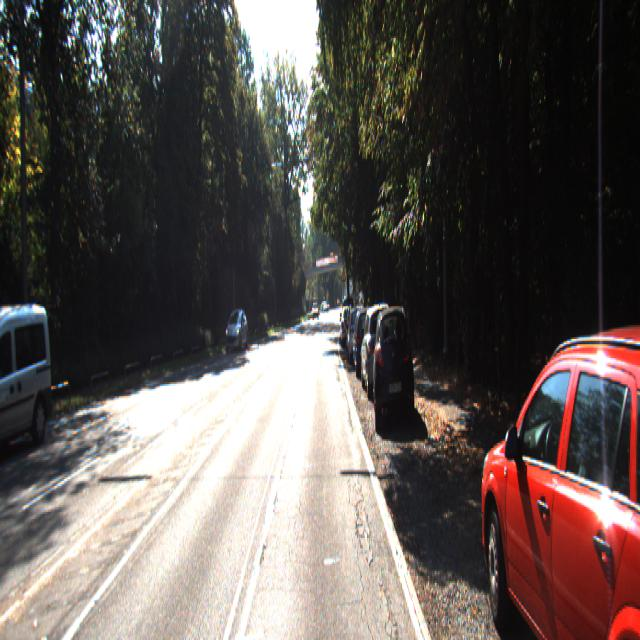Car: (472, 308, 640, 638), (0, 298, 59, 466), (372, 298, 415, 426), (361, 306, 399, 400), (353, 307, 378, 378), (348, 309, 371, 369), (224, 309, 248, 352), (340, 304, 355, 345)
